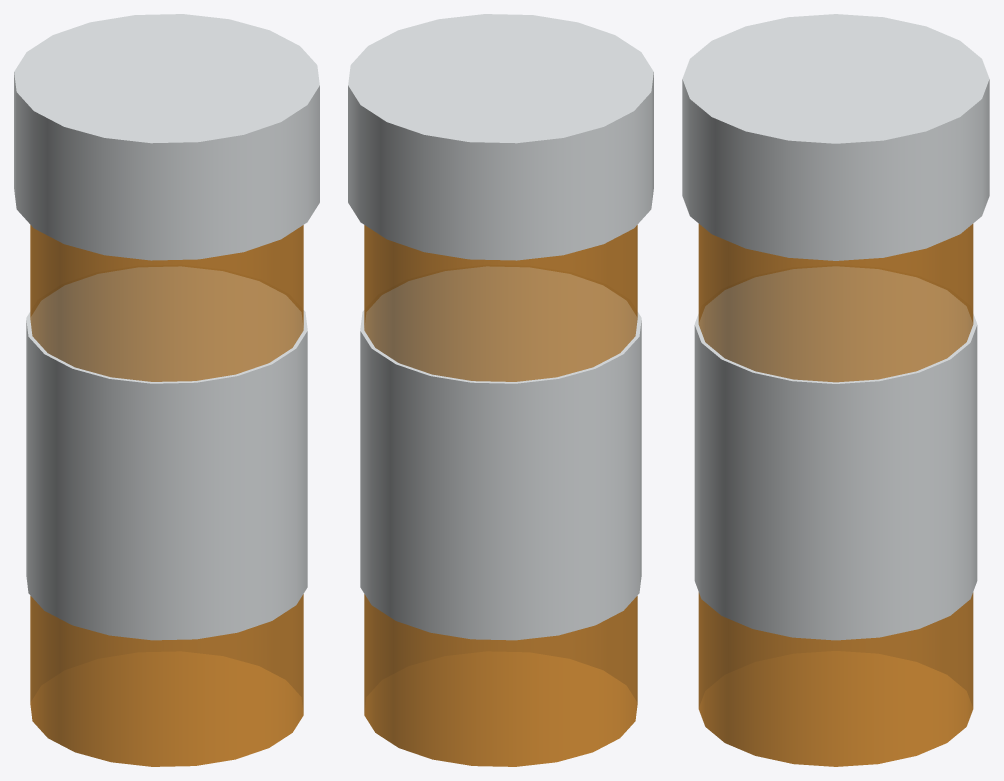
The model's file is Pill_Bottle.glb.
3 renders of one model, left to right at view 1: azimuth 30°, elevation 25°; view 2: azimuth 150°, elevation 25°; view 3: azimuth 270°, elevation 25°, orthographic.
Parts seen in each view (by area): view 1: Label.002, Bottle.002, Cap; view 2: Label.002, Bottle.002, Cap; view 3: Label.002, Bottle.002, Cap.
Part boxes in pixels (box(x1,y1,x2,y2)): Label.002: box(26, 266, 307, 640); Bottle.002: box(30, 225, 303, 766); Cap: box(14, 14, 319, 260); Label.002: box(360, 266, 641, 640); Bottle.002: box(364, 225, 637, 766); Cap: box(348, 14, 653, 260); Label.002: box(694, 266, 977, 640); Bottle.002: box(698, 224, 973, 766); Cap: box(682, 14, 989, 260).
Bounding box in the file's own units: 0.038 × 0.086 × 0.038.
